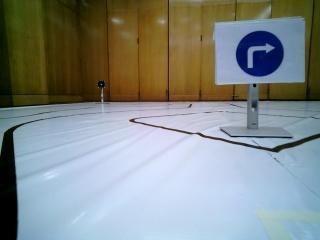right: (221, 27, 306, 82)
